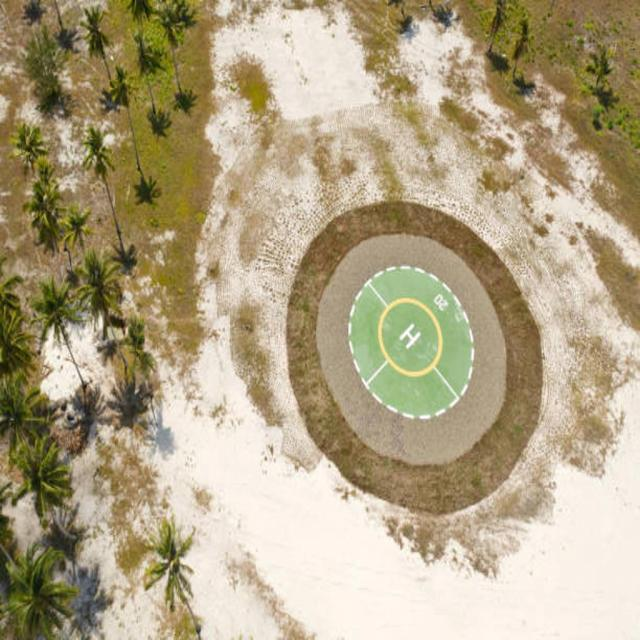helipad: (376, 296, 443, 376)
